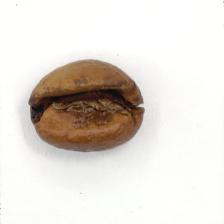NG: (41, 83, 137, 137)
